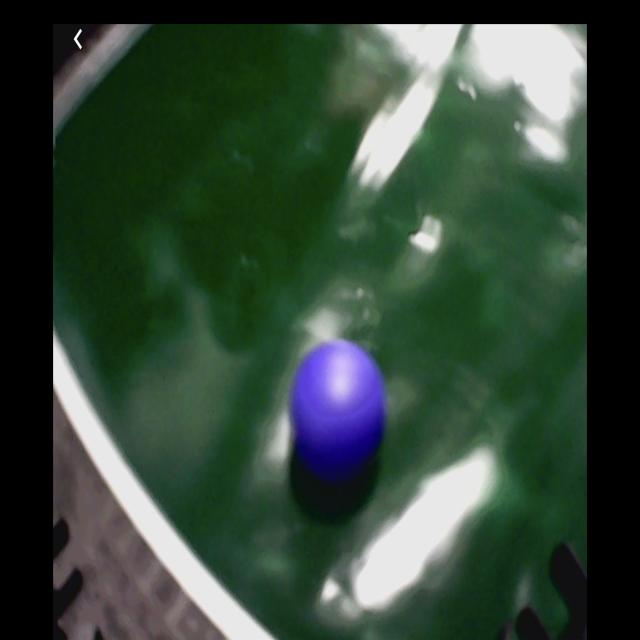ball: (292, 338, 389, 471)
